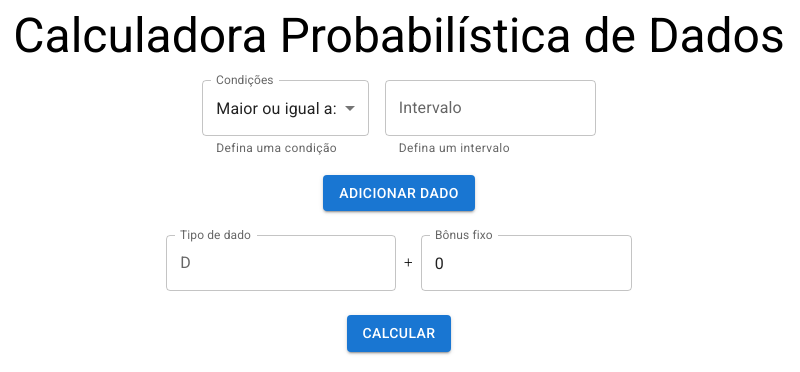
it: should accept only numbers on Dice Input
This screenshot has width=800, height=372.
Step 1. Type "a.2y0r$" into the field named "Bônus fixo" → (297, 263), box [199,235,396,291]
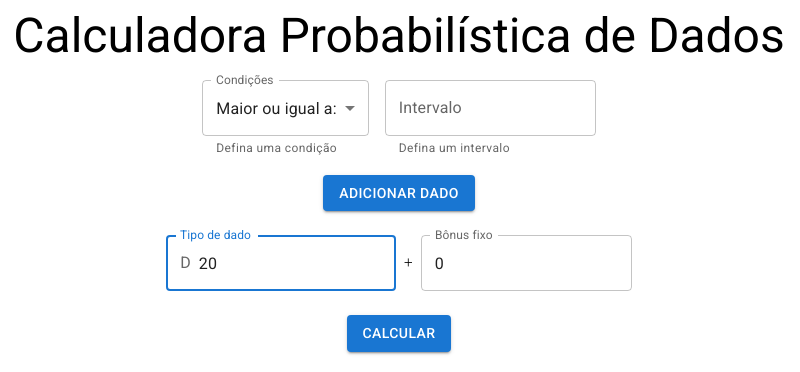
Result: the field named "Bônus fixo" holds "20" at [199,235,396,291]
